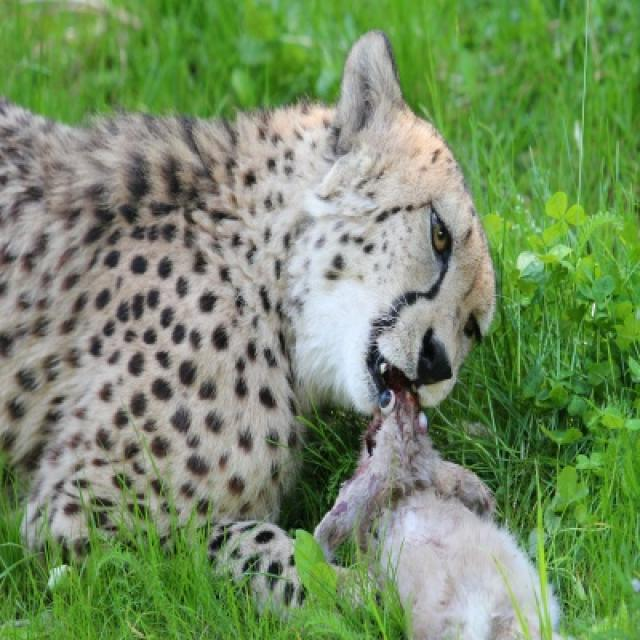Cheetah: (0, 30, 538, 638)
